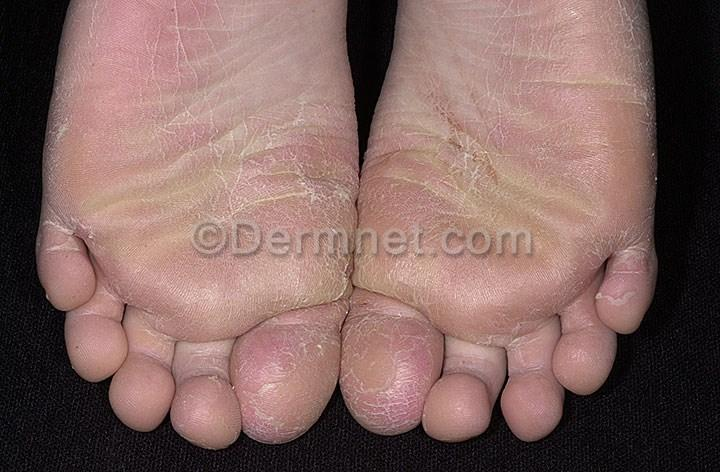Eczema: (434, 119, 508, 198), (143, 69, 219, 131), (248, 128, 317, 194), (512, 1, 584, 62), (255, 85, 331, 142), (273, 317, 338, 378), (191, 185, 257, 245), (506, 210, 565, 277), (101, 0, 159, 68), (426, 226, 490, 286), (484, 31, 546, 88), (126, 167, 182, 229), (99, 125, 193, 160), (287, 247, 351, 298), (367, 154, 433, 203), (77, 0, 115, 83), (189, 135, 249, 187), (600, 12, 651, 72), (237, 339, 303, 381), (361, 238, 427, 280), (357, 283, 411, 331), (342, 331, 403, 373), (178, 338, 228, 388), (241, 381, 291, 431), (316, 225, 361, 278), (414, 82, 474, 121), (263, 183, 312, 229), (481, 83, 531, 128), (126, 309, 178, 351), (185, 281, 242, 319), (134, 246, 185, 286), (621, 72, 654, 132), (316, 152, 357, 200), (494, 323, 543, 363), (297, 295, 364, 324), (344, 373, 389, 416), (543, 98, 589, 140), (511, 133, 546, 188), (428, 148, 470, 193), (445, 285, 493, 324), (173, 43, 220, 82), (47, 81, 79, 138), (368, 195, 411, 234), (496, 276, 539, 314), (547, 155, 593, 190), (42, 139, 67, 203), (63, 7, 83, 83), (410, 322, 437, 377), (564, 222, 604, 259), (48, 207, 89, 243), (594, 280, 638, 313), (614, 234, 646, 278), (305, 176, 342, 214), (92, 270, 126, 311), (197, 0, 234, 35), (624, 202, 659, 234), (104, 82, 144, 109), (550, 269, 588, 297), (159, 0, 195, 28), (40, 242, 88, 262), (291, 385, 317, 420), (394, 371, 419, 406), (384, 406, 424, 425)
